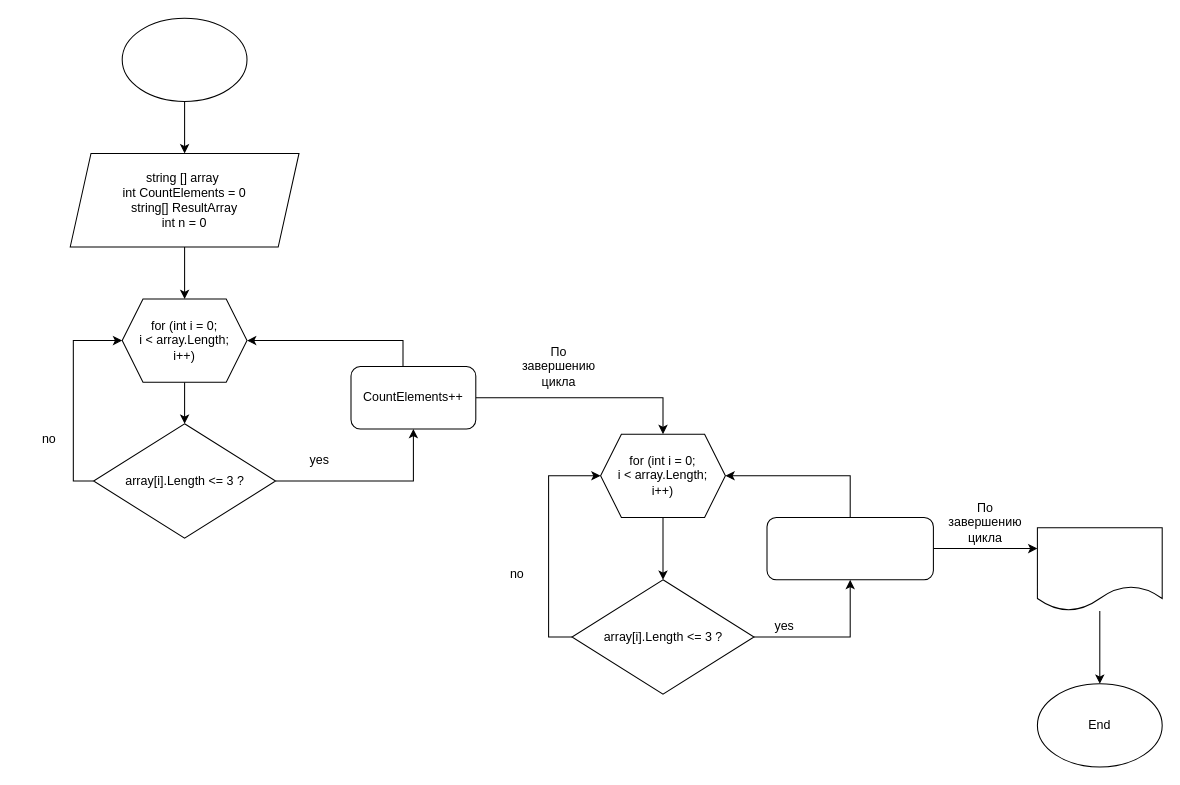
This 1180x785 diagram has some shape labels left out. Each missing label, with the centre of its shape:
print ResultArray: [1099,569]
ResultArray[n] = array[i] n++: [849,548]
Start: [184,59]
